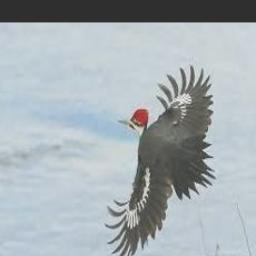Woodpecker: (104, 63, 216, 256)
